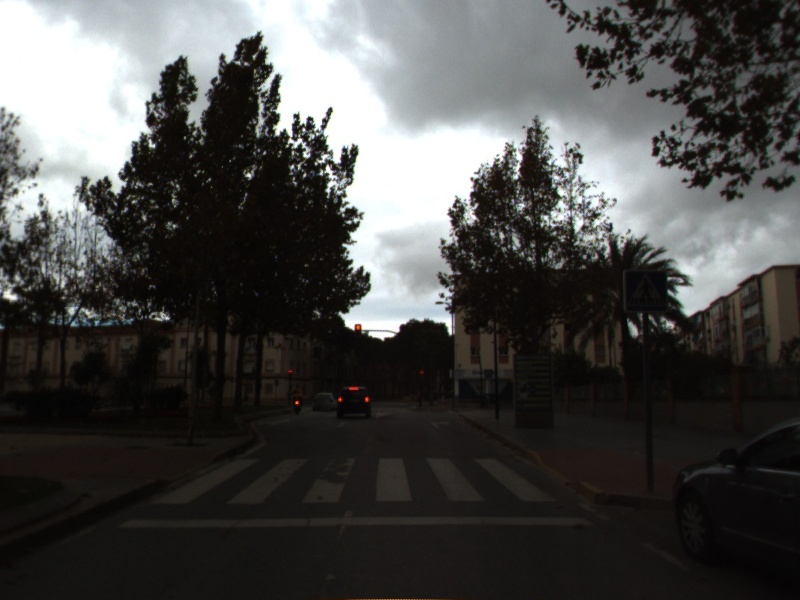RIGHT: (429, 418, 452, 430)
STRAIGHT: (334, 419, 352, 430)
STRAIGHT_LEFT: (256, 417, 293, 427)
